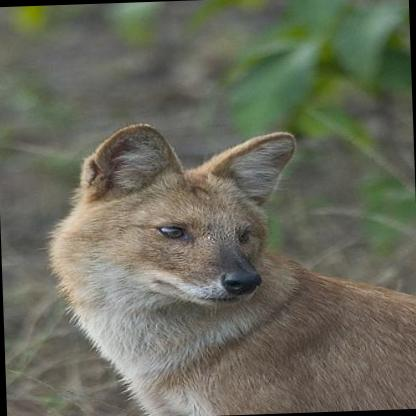dhole: (43, 112, 416, 416)
